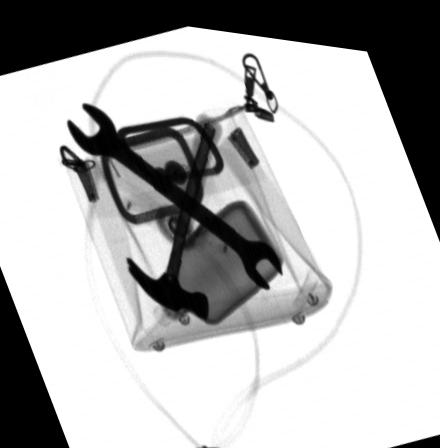Hammer: (121, 108, 222, 313)
Wrench: (64, 100, 283, 282)
